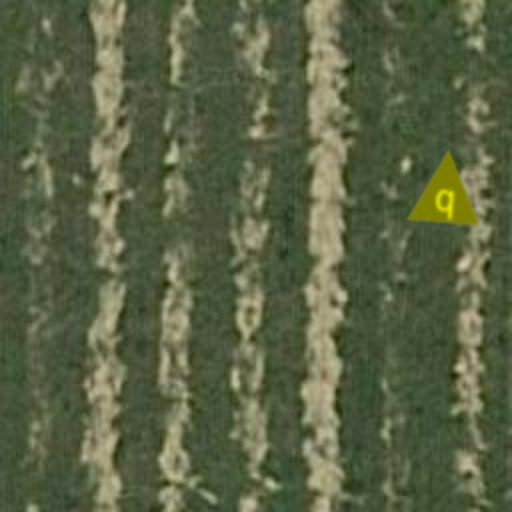triangle: (406, 146, 486, 226)
